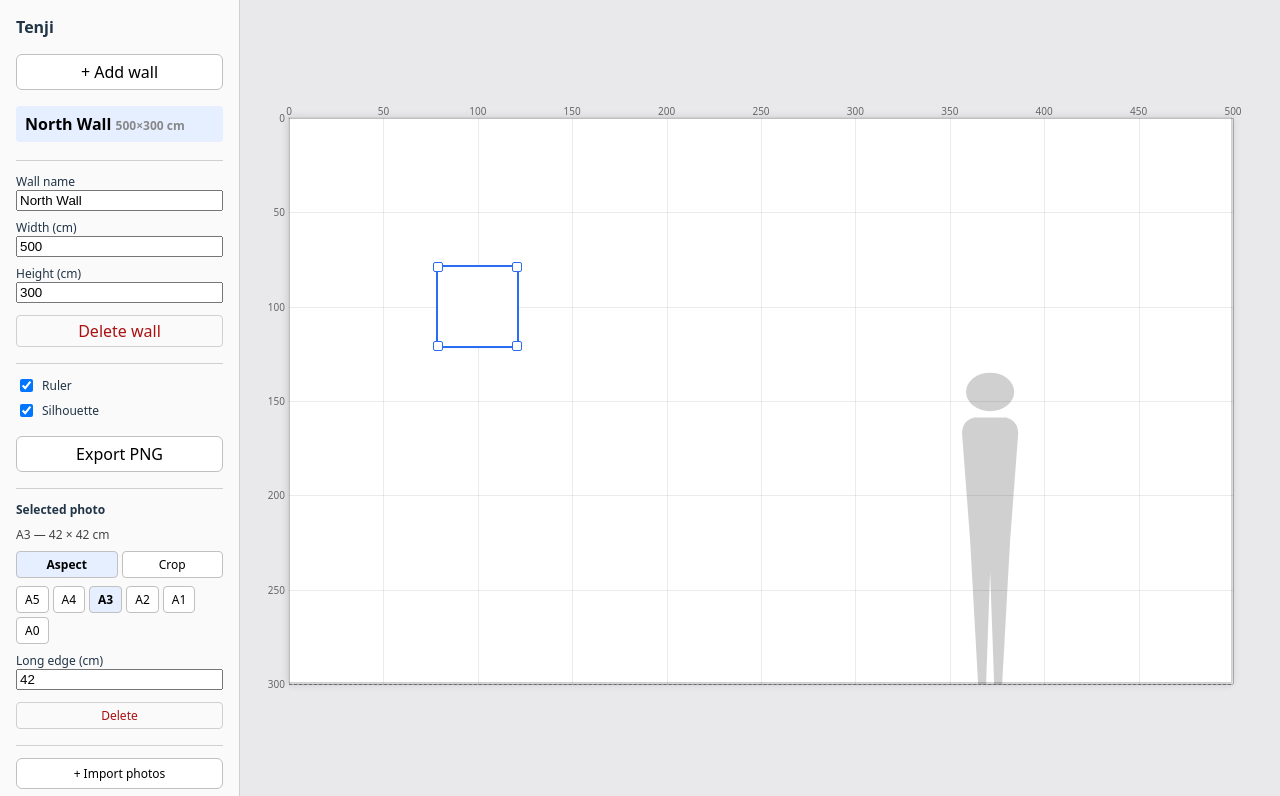
Test case: App › a photo with no remaining placements simply disappears from view (instance-level delete)
Check: the element with test id "placement-inspector" is shown, box [16,488,223,729]
What coordinates should you click on to do the following:
click the button "Delete"
I would click on:
 (120, 716)
Its box is [16,702,223,729].
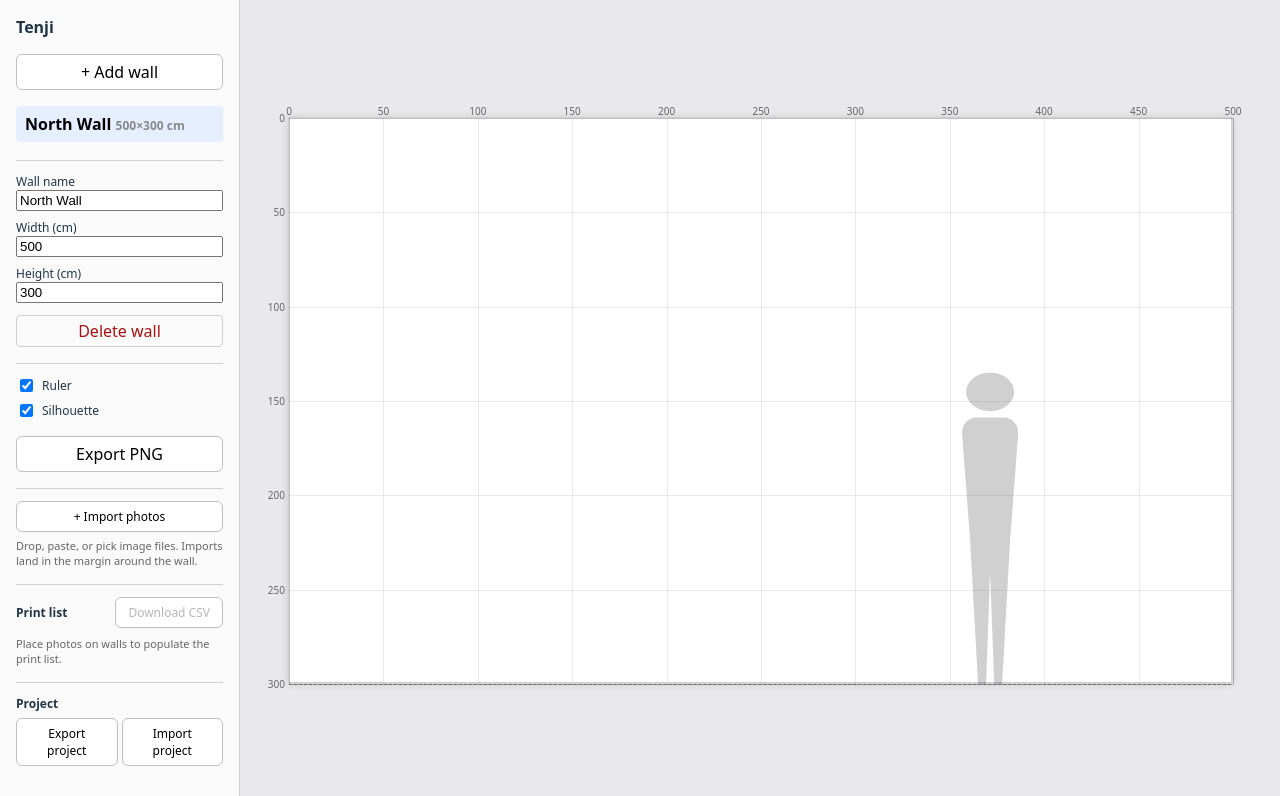
Check: the element with test id "placement-pl-1" is gone
